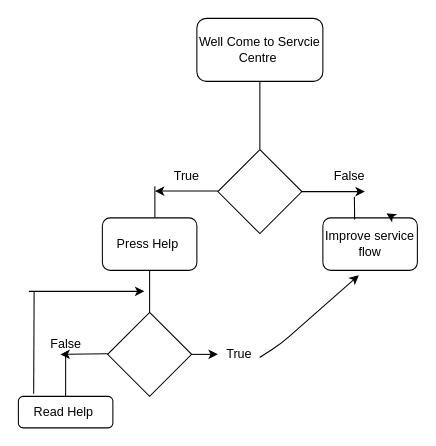
The diagram is 436 pixels wide and 446 high, and some of its shapes have lost their labels. The shapes that lost their labels are listed below. From the top down, each one's centre as x and y in pixels, then its label:
point 259,191: Doubt ?
point 149,353: Ready ?
